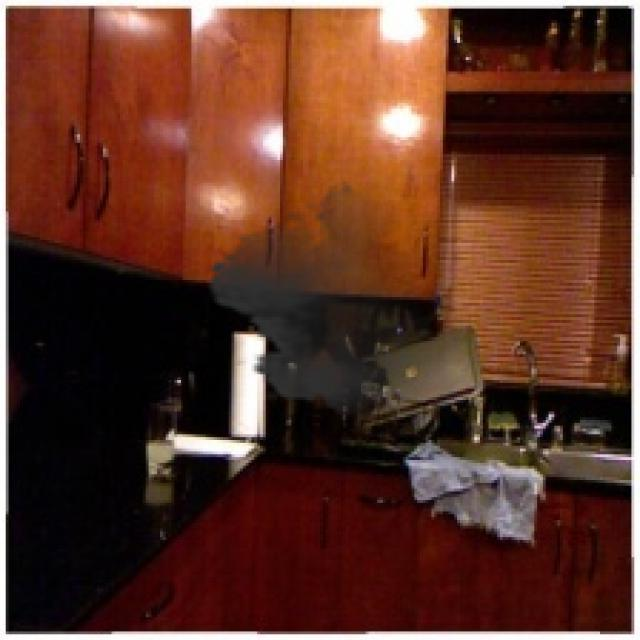Smoke: (197, 177, 477, 423)
